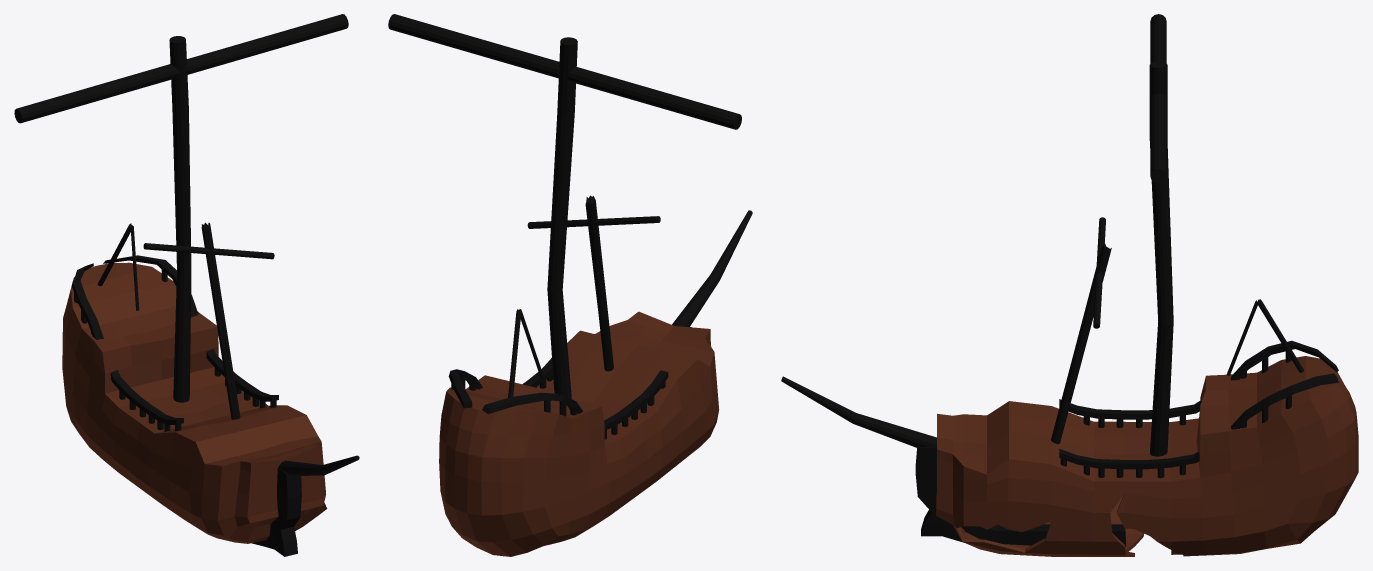
File: PirateShip.fbx
The picture shows the model from 3 angles, left to right: view 1: azimuth 30°, elevation 25°; view 2: azimuth 150°, elevation 25°; view 3: azimuth 270°, elevation 25°; orthographic projection. The views are drawn at different scales.
Parts seen in each view (by area): view 1: Cylinder; view 2: Cylinder; view 3: Cylinder.
Part boxes in pixels (<box>): Cylinder: <box>14,14,359,556</box>; Cylinder: <box>388,14,752,556</box>; Cylinder: <box>781,14,1358,556</box>.
Bounding box in the file's own units: 1849 × 2422 × 2636.
